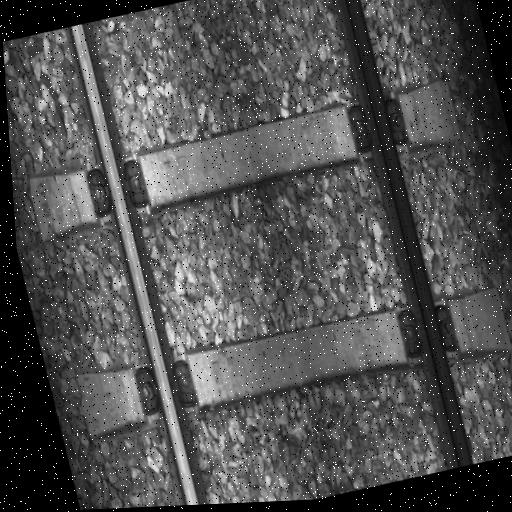clip: (134, 360, 201, 419), (399, 303, 462, 364), (84, 158, 149, 217), (347, 99, 410, 157)
sleeper: (66, 271, 512, 446), (18, 79, 469, 240)
